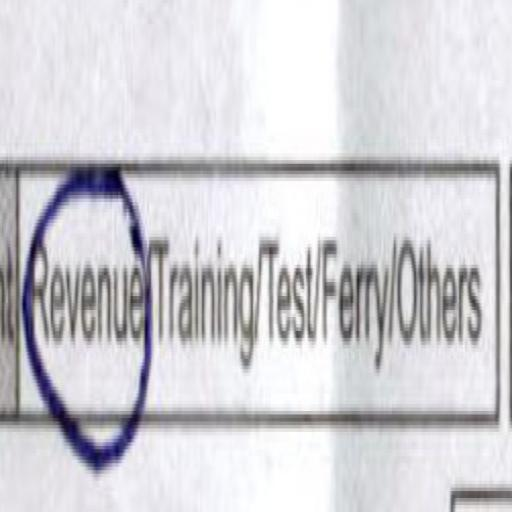check: (26, 94, 150, 502)
